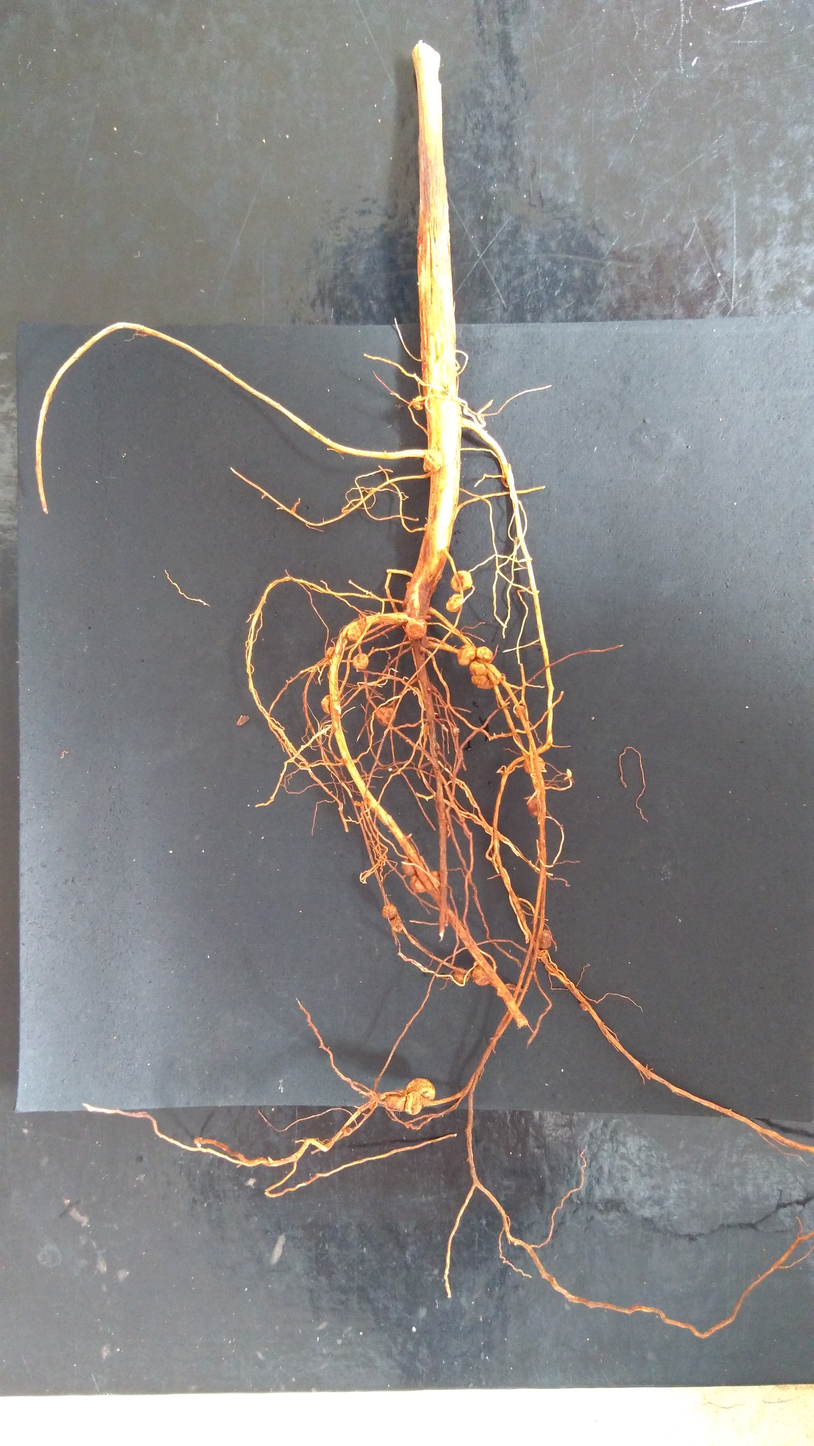nodule: (471, 664, 501, 690), (406, 1077, 436, 1101), (405, 617, 427, 640), (423, 449, 444, 473), (385, 1089, 407, 1111), (451, 571, 473, 592), (404, 1091, 423, 1115), (348, 619, 367, 642), (457, 644, 476, 666), (375, 707, 396, 726), (523, 756, 545, 774), (472, 965, 490, 986), (409, 873, 426, 894), (445, 594, 463, 612), (476, 646, 493, 664), (469, 660, 488, 676), (401, 858, 417, 877), (352, 653, 369, 670), (527, 797, 541, 817), (539, 929, 552, 950), (454, 967, 470, 984), (381, 903, 397, 919), (428, 871, 441, 889), (321, 695, 331, 716), (391, 917, 404, 933), (412, 395, 423, 411), (515, 706, 526, 718), (326, 647, 335, 659), (579, 1002, 589, 1011), (343, 1127, 353, 1136), (434, 741, 440, 754), (354, 800, 363, 807), (453, 727, 459, 737), (424, 615, 431, 621), (406, 581, 411, 588), (344, 509, 350, 514), (387, 767, 393, 771)
